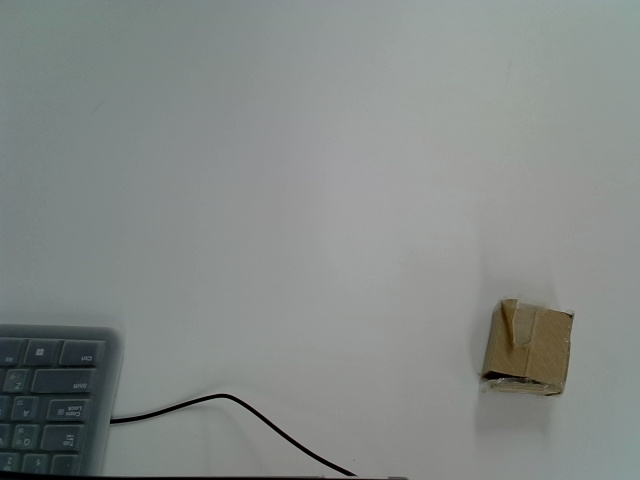defect: (478, 296, 575, 397)
